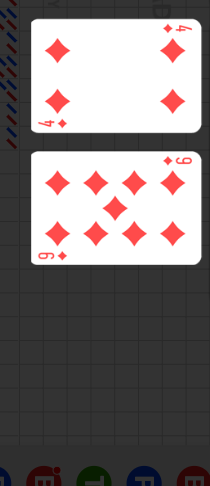9D: (36, 250, 69, 262), (161, 155, 193, 167)
